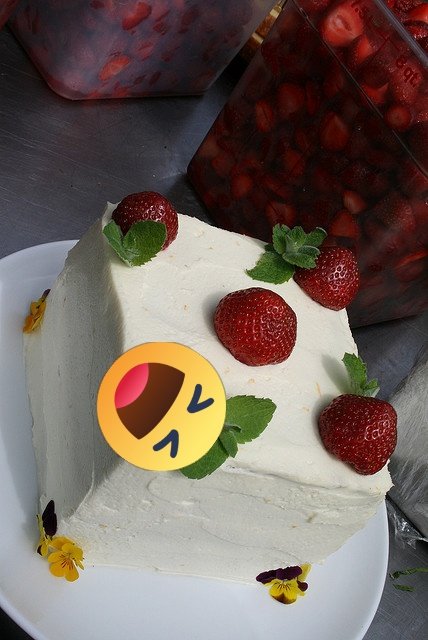haha: (97, 342, 226, 471)
